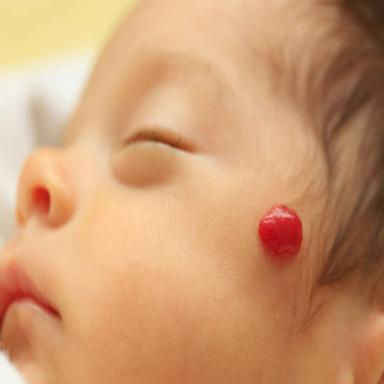Hemangiome: (260, 205, 302, 254)
